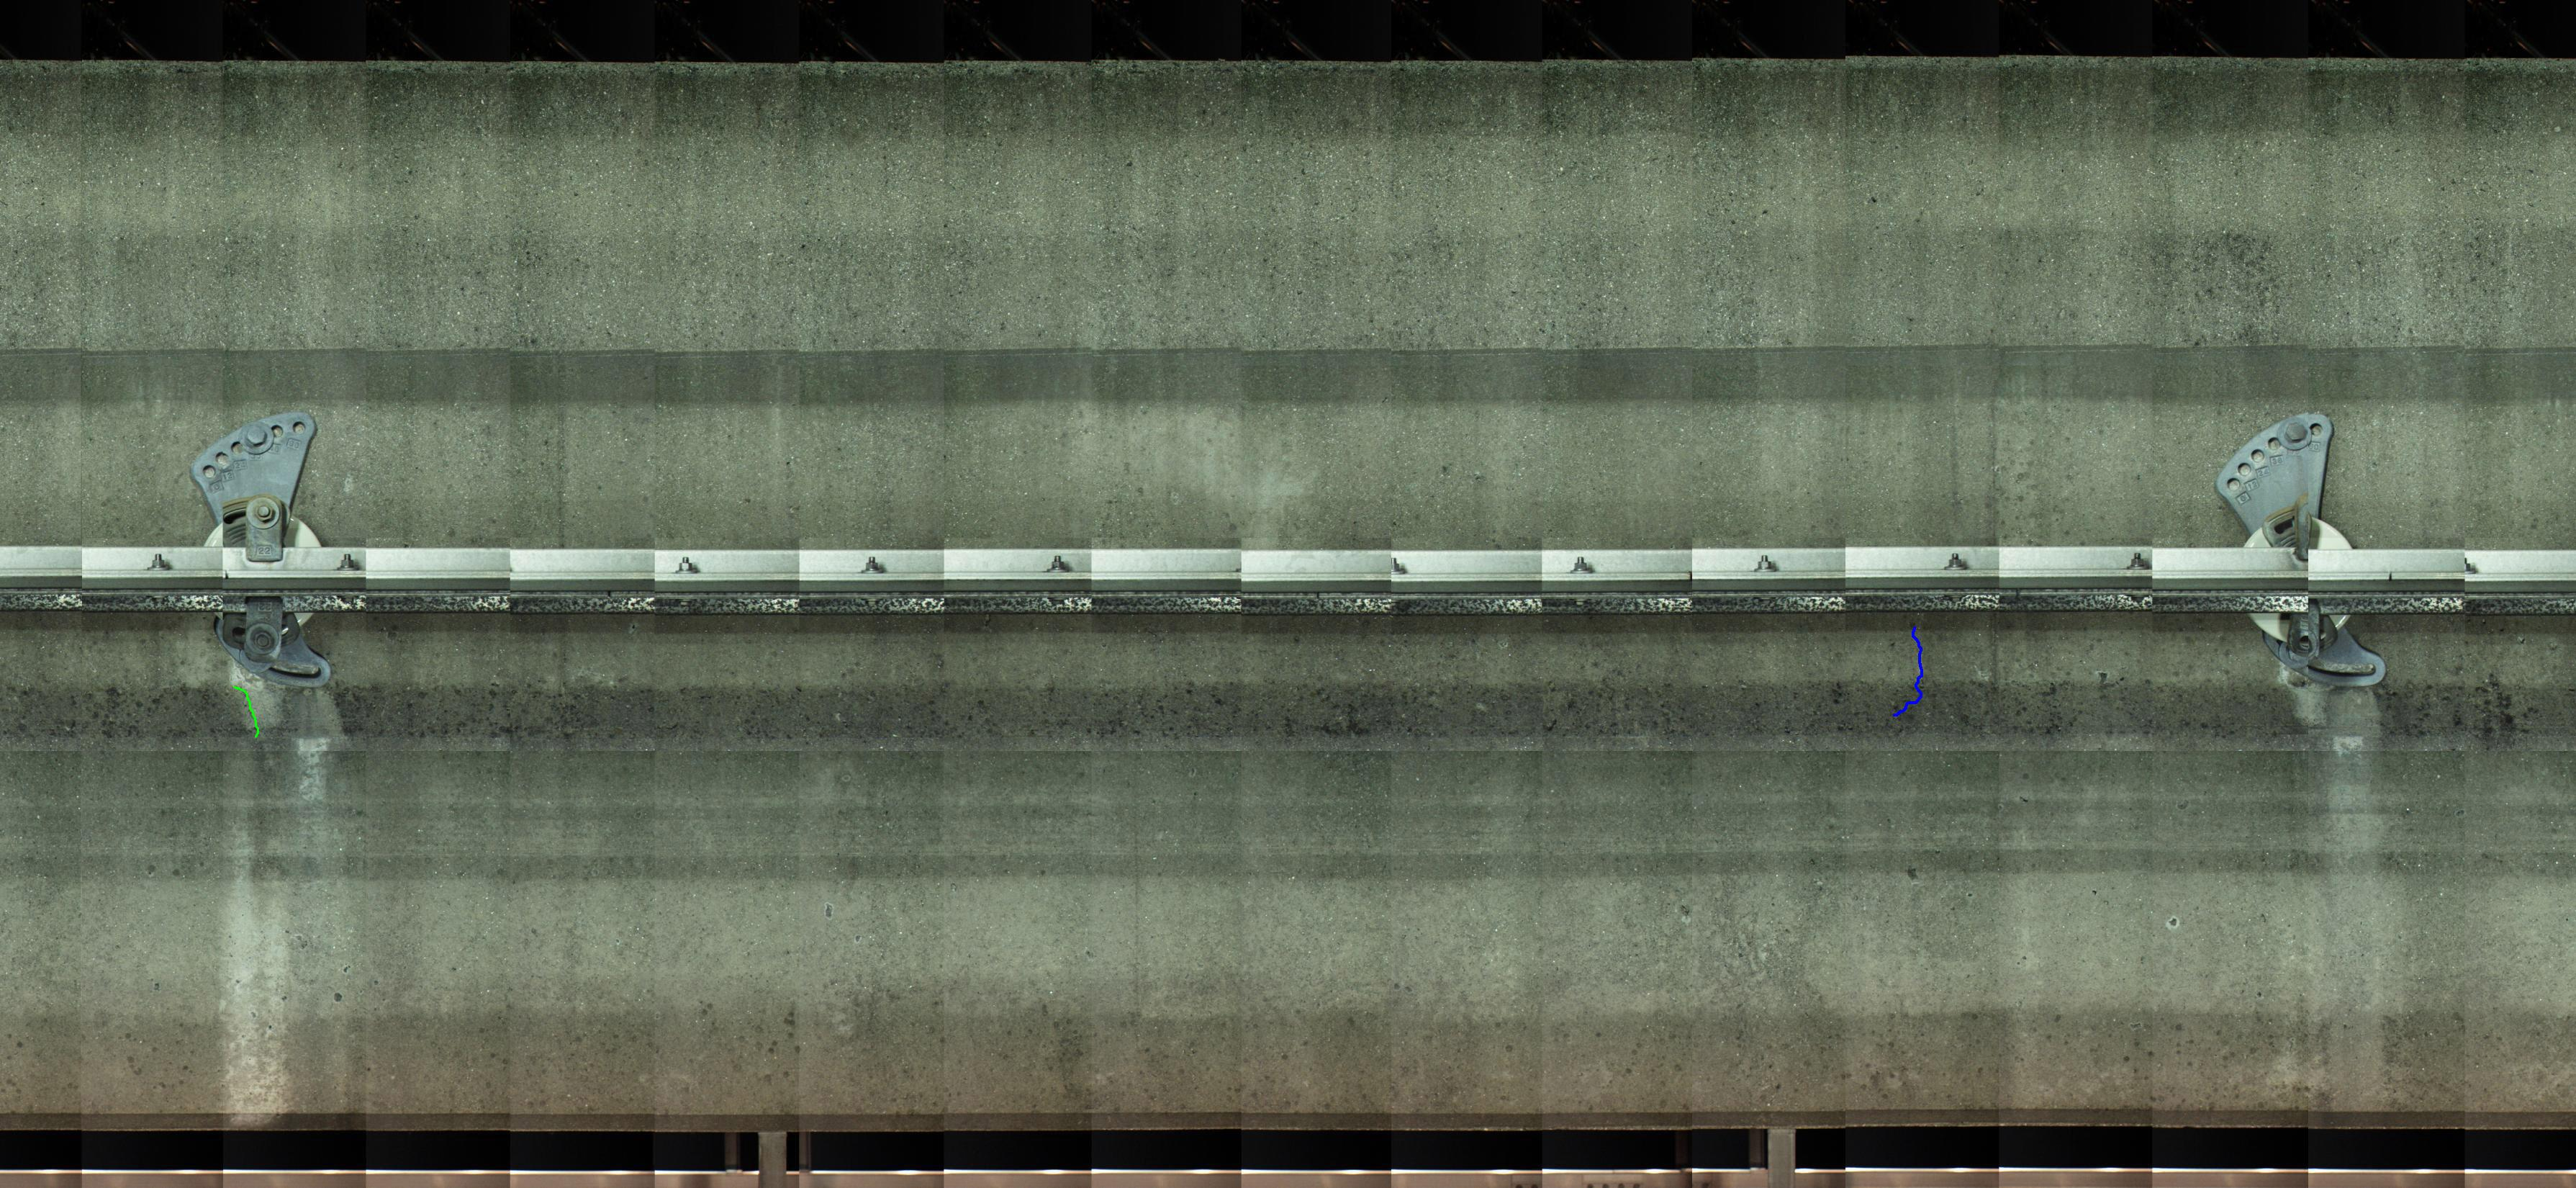concrete: (5, 613, 2566, 1130), (3, 64, 2576, 554)
